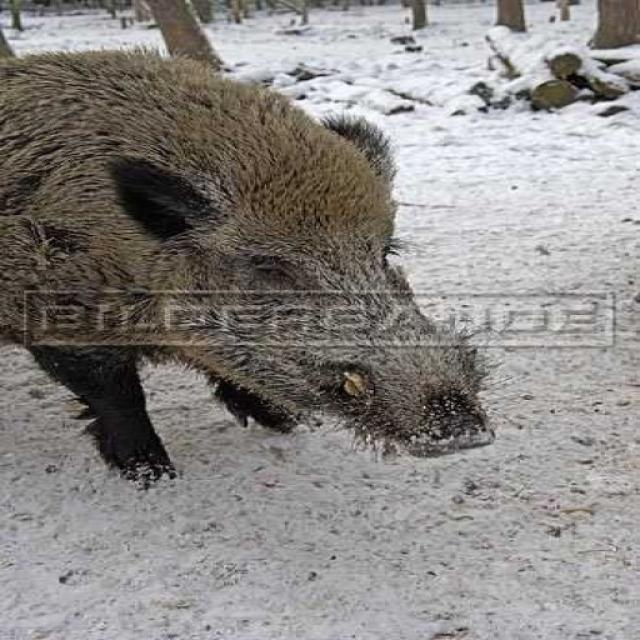pig: (0, 4, 505, 513)
